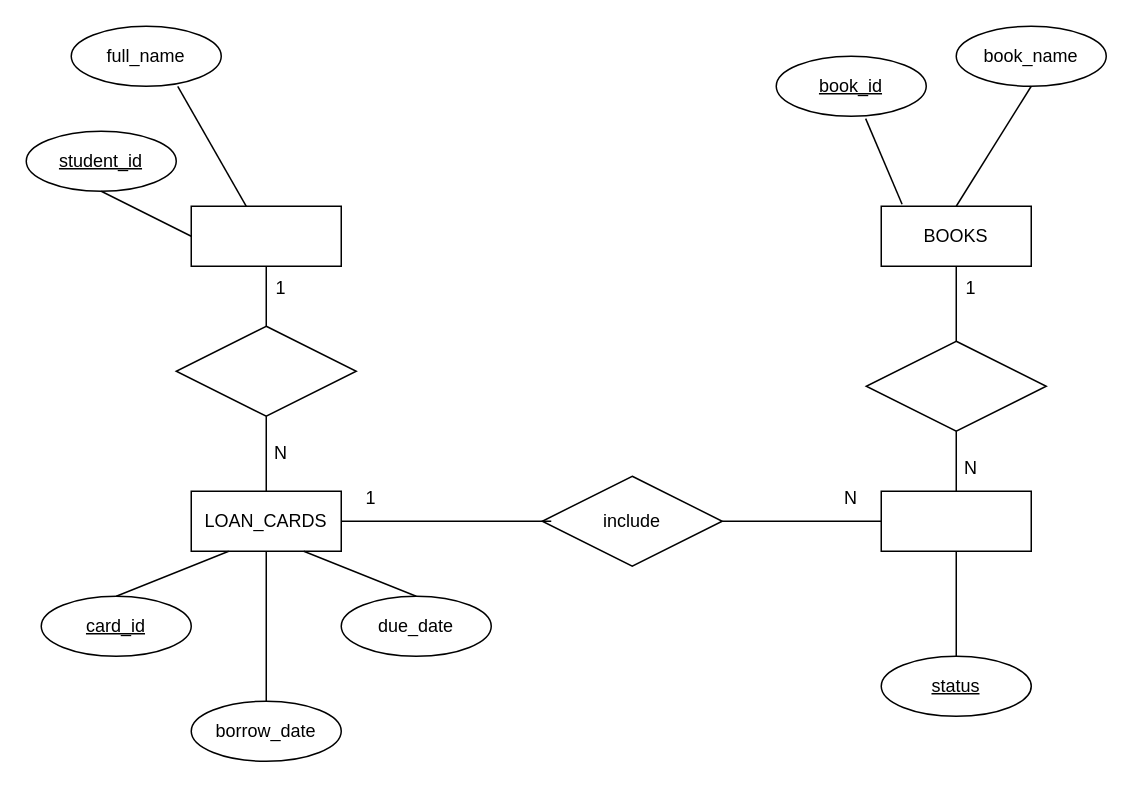
Image size: 1133x788. Some labels were removed from this diagram. The centre of each missing label's shape, as x and y in pixels:
"contain" belongs at (955,385).
"have" belongs at (265,370).
"LOAN_DETAILS" belongs at (955,520).
"STUDENTS" belongs at (265,235).
